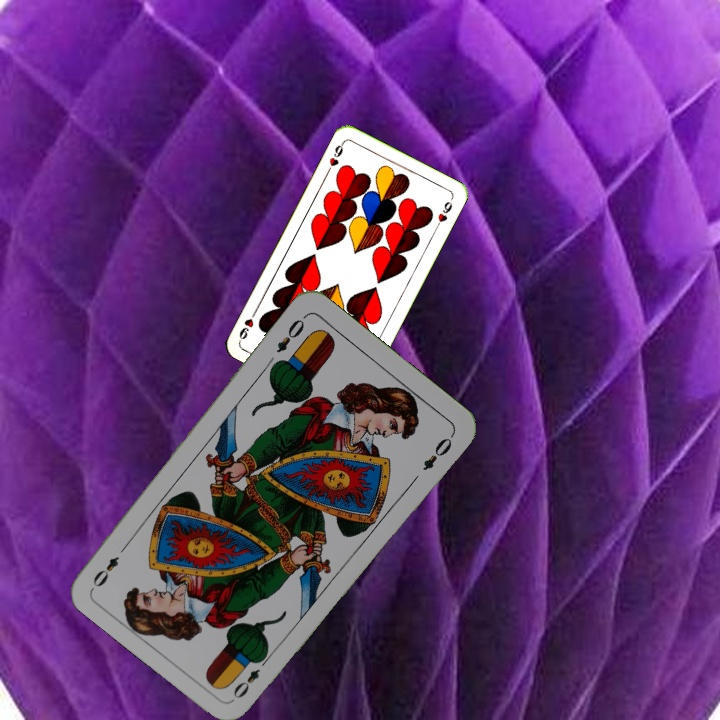EO: (229, 652, 272, 702), (272, 311, 309, 356)
H9: (323, 138, 346, 176)
